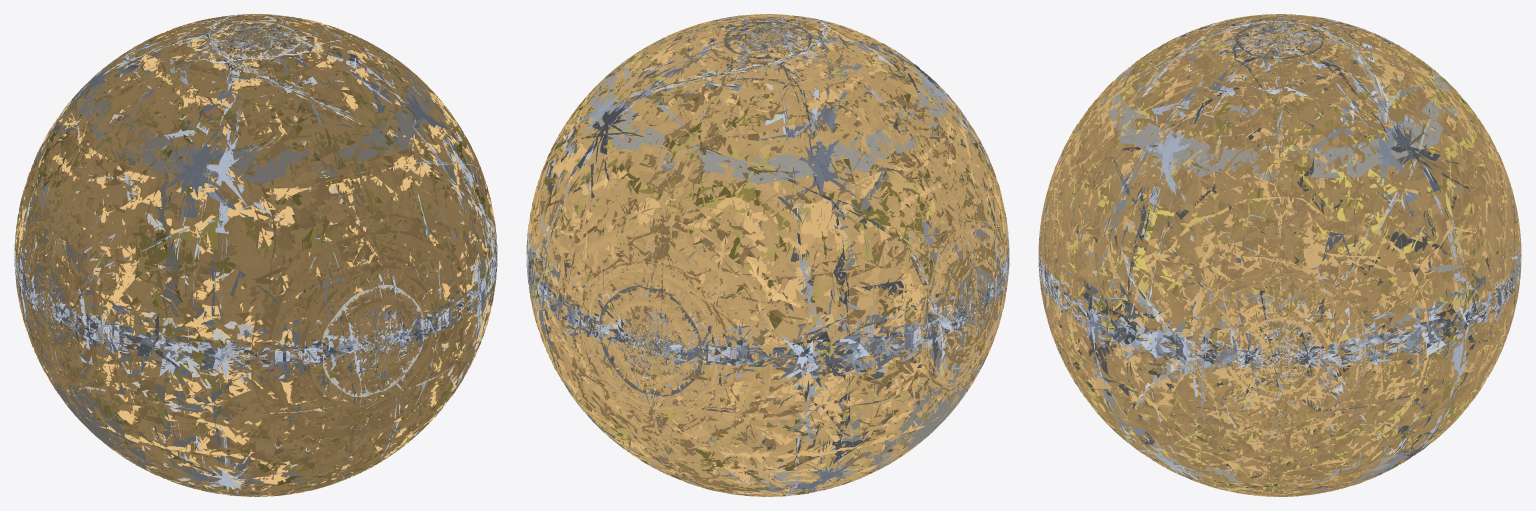
3 renders of one model, left to right at view 1: azimuth 30°, elevation 25°; view 2: azimuth 150°, elevation 25°; view 3: azimuth 270°, elevation 25°, orthographic.
Parts seen in each view (by area): view 1: MBF-6101, PBE-6103A, PBA-6206, ABJ-6202, TS-sd-struct_pri-3, PBE-6103B, PBE-4304A, TS-sd-access-33, PBA-6203, TS-sd-misc-9, TS-sd-misc-18, TS-sd-access-34 (+9 smaller); view 2: MBF-6101, PBE-6103A, PBA-6206, TS-sd-struct_pri-3, ABJ-6202, PBE-6103B, PBE-4304A, TS-sd-access-33, PBA-6203, TS-sd-misc-9, TS-sd-access-34, TS-sd-misc-18 (+10 smaller); view 3: PBE-6103A, MBF-6101, ABJ-6202, PBA-6206, TS-sd-struct_pri-3, PBE-6103B, PBE-4304A, TS-sd-access-33, PBA-6203, TS-sd-misc-9, TS-sd-access-34, TS-sd-misc-23 (+10 smaller).
Boxes of the visible parts, bbox=[...] form: MBF-6101: bbox=[15, 14, 496, 496]; PBE-6103A: bbox=[14, 14, 496, 496]; PBA-6206: bbox=[15, 14, 496, 496]; ABJ-6202: bbox=[14, 14, 497, 495]; TS-sd-struct_pri-3: bbox=[14, 14, 497, 495]; PBE-6103B: bbox=[14, 14, 496, 496]; PBE-4304A: bbox=[15, 14, 496, 496]; TS-sd-access-33: bbox=[16, 15, 495, 495]; PBA-6203: bbox=[15, 14, 494, 495]; TS-sd-misc-9: bbox=[33, 18, 473, 487]; TS-sd-misc-18: bbox=[16, 30, 492, 495]; TS-sd-access-34: bbox=[18, 20, 495, 495]; MBF-6101: bbox=[527, 14, 1007, 496]; PBE-6103A: bbox=[527, 14, 1009, 496]; PBA-6206: bbox=[527, 14, 1009, 496]; TS-sd-struct_pri-3: bbox=[526, 14, 1009, 496]; ABJ-6202: bbox=[527, 14, 1009, 496]; PBE-6103B: bbox=[527, 14, 1009, 496]; PBE-4304A: bbox=[527, 15, 1009, 496]; TS-sd-access-33: bbox=[526, 15, 1009, 496]; PBA-6203: bbox=[530, 14, 1008, 496]; TS-sd-misc-9: bbox=[531, 19, 998, 484]; TS-sd-access-34: bbox=[529, 14, 1008, 490]; TS-sd-misc-18: bbox=[528, 27, 1008, 496]; PBE-6103A: bbox=[1038, 14, 1521, 496]; MBF-6101: bbox=[1039, 14, 1519, 496]; ABJ-6202: bbox=[1039, 15, 1521, 496]; PBA-6206: bbox=[1039, 14, 1521, 496]; TS-sd-struct_pri-3: bbox=[1038, 14, 1521, 495]; PBE-6103B: bbox=[1038, 14, 1521, 496]; PBE-4304A: bbox=[1039, 16, 1517, 496]; TS-sd-access-33: bbox=[1039, 18, 1519, 495]; PBA-6203: bbox=[1039, 15, 1520, 495]; TS-sd-misc-9: bbox=[1038, 14, 1521, 482]; TS-sd-access-34: bbox=[1045, 14, 1515, 496]; TS-sd-misc-23: bbox=[1055, 15, 1507, 495].
Bounding box in the file's own units: 2 × 2 × 2.
